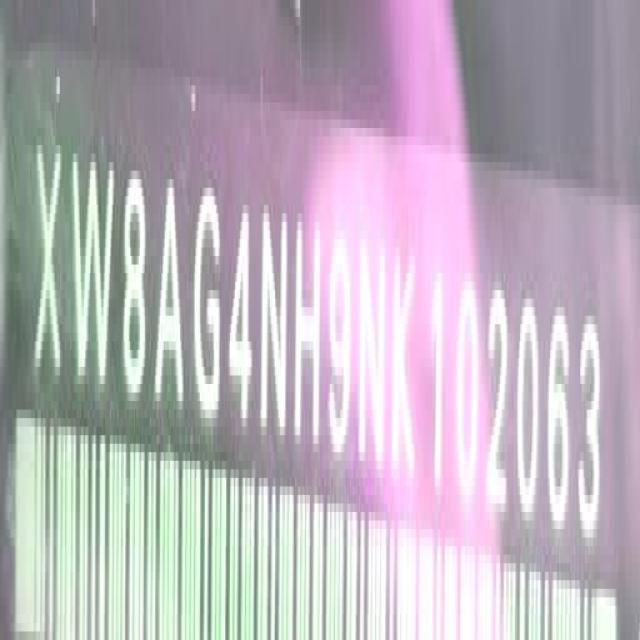0: (457, 278, 481, 512), (518, 302, 541, 527)
1: (429, 261, 448, 503)
2: (487, 284, 510, 520)
3: (578, 317, 602, 546)
4: (228, 200, 252, 442)
6: (549, 306, 574, 536)
8: (123, 165, 148, 409)
9: (328, 222, 351, 466)
A: (156, 178, 185, 422)
G: (194, 182, 222, 431)
H: (295, 210, 321, 450)
K: (392, 246, 418, 499)
N: (261, 198, 291, 448), (358, 232, 386, 476)
W: (71, 152, 116, 404)
X: (36, 140, 64, 398)
